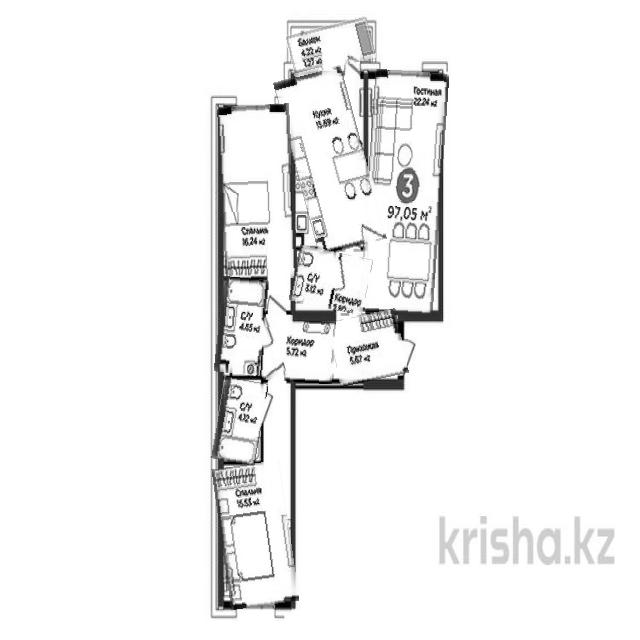balcony: (287, 20, 375, 73)
bathroom: (290, 247, 371, 312), (216, 277, 267, 375), (214, 378, 265, 463)
hallway: (330, 312, 406, 384), (261, 316, 335, 384)
kitchen: (284, 68, 376, 254)
living_room: (363, 70, 445, 316), (220, 104, 296, 281), (216, 462, 295, 608)
